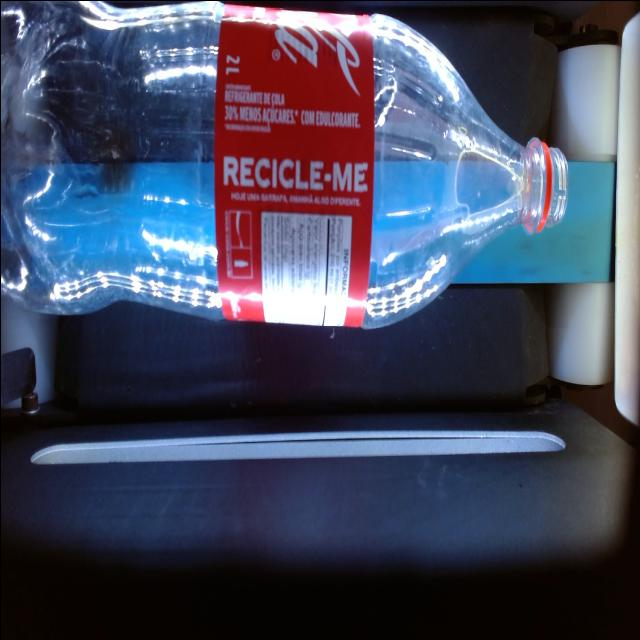bottom: (1, 2, 223, 318)
label: (213, 8, 373, 324)
neck: (362, 13, 566, 327)
